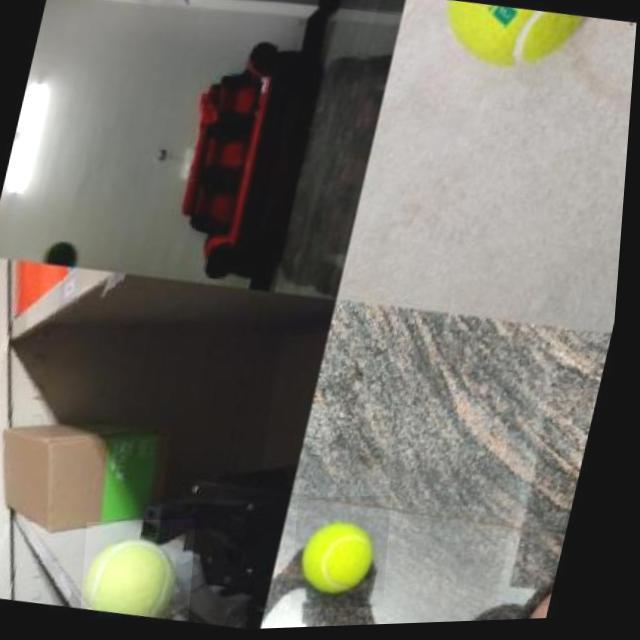-: (90, 520, 204, 625), (300, 498, 399, 612)
